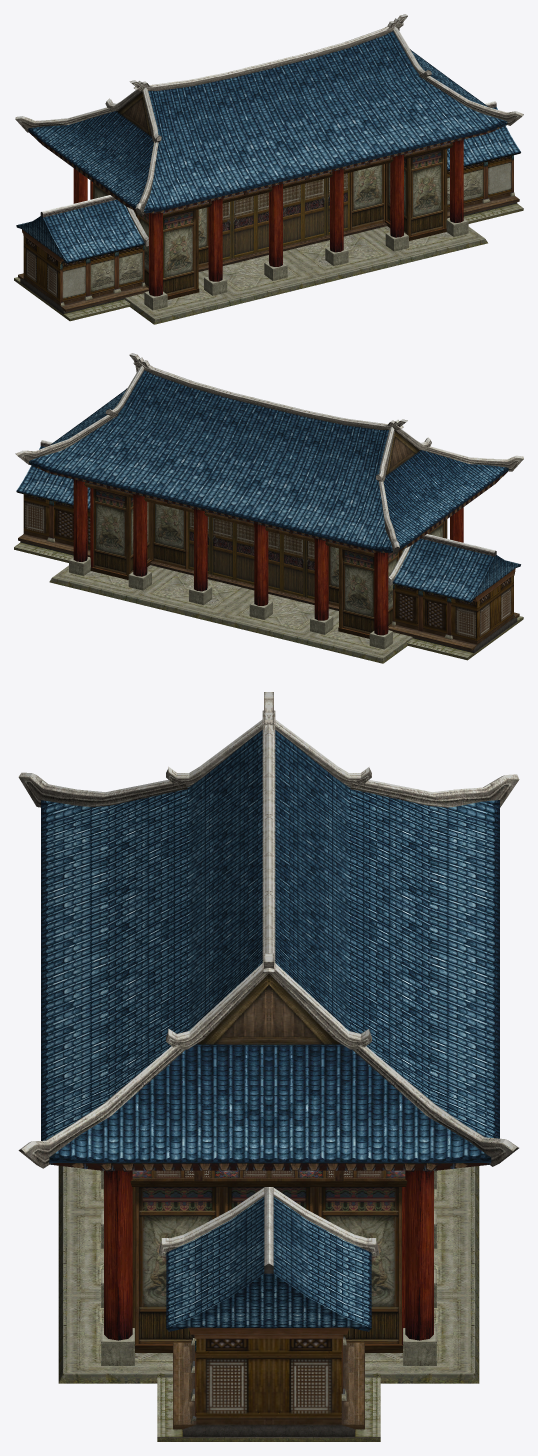
Rendered from secret_door_01.fbx.
3 views of the same model, one above another, from view 1: azimuth 30°, elevation 25°; view 2: azimuth 150°, elevation 25°; view 3: azimuth 270°, elevation 25° (orthographic). The views are drawn at different scales.
Parts seen in each view (by area): view 1: secret_door_01; view 2: secret_door_01; view 3: secret_door_01.
Part boxes in pixels (x1,y1,x2,y2): secret_door_01: [14, 14, 523, 324]; secret_door_01: [14, 353, 523, 663]; secret_door_01: [18, 692, 519, 1441].
Bounding box in the file's own units: 60 × 24.88 × 28.7.
